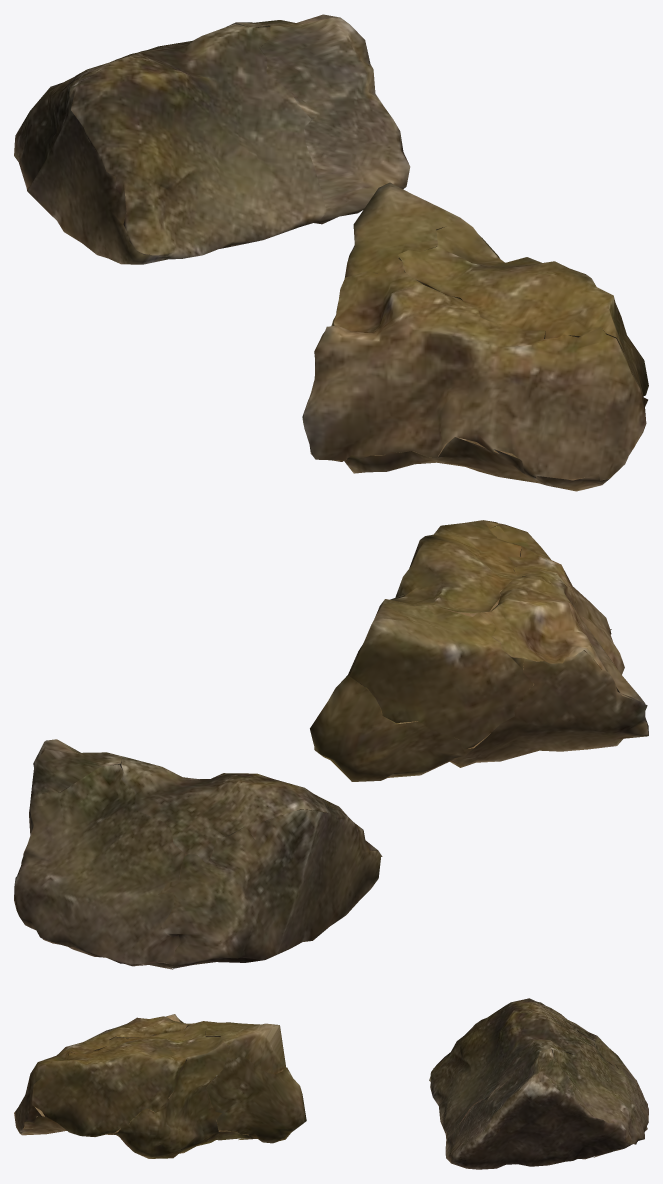
The model's file is river-rock.glb.
The picture shows the model from 3 angles, top to bottom: view 1: azimuth 30°, elevation 25°; view 2: azimuth 150°, elevation 25°; view 3: azimuth 270°, elevation 25°; orthographic projection. The views are drawn at different scales.
Visible parts, largest first — view 1: rock_moss_set_01_rock06, rock_moss_set_01_rock03; view 2: rock_moss_set_01_rock03, rock_moss_set_01_rock06; view 3: rock_moss_set_01_rock06, rock_moss_set_01_rock03.
Boxes of the visible parts, x1,y1,x2,y2 form: rock_moss_set_01_rock06: (302,182,648,491); rock_moss_set_01_rock03: (14,14,410,264); rock_moss_set_01_rock03: (14,739,382,969); rock_moss_set_01_rock06: (310,520,648,781); rock_moss_set_01_rock06: (14,1014,306,1158); rock_moss_set_01_rock03: (429,998,648,1169).
Bounding box in the file's own units: 2.49 × 1.25 × 6.
Materials: 1 (1 with a texture image).
